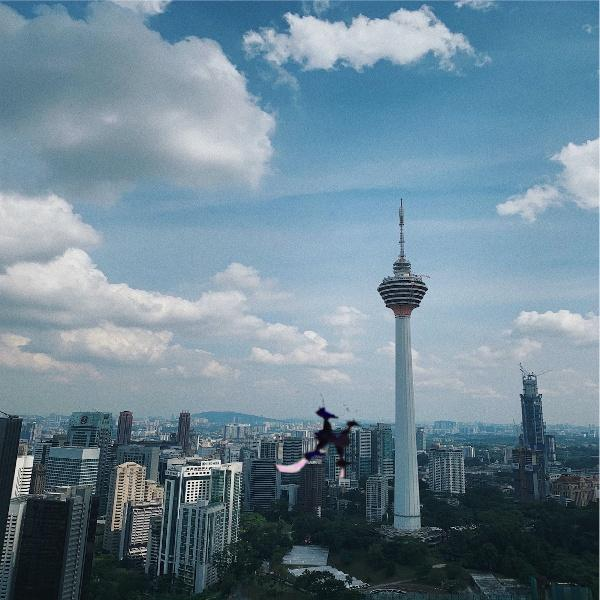drone: (270, 386, 372, 488)
